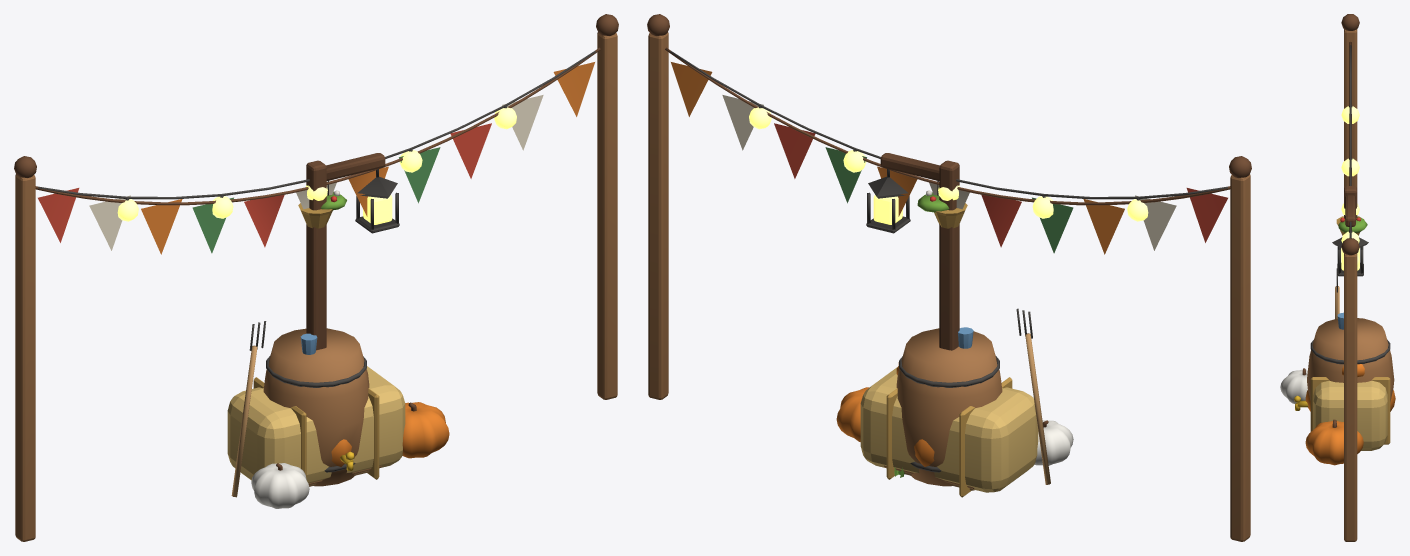
The model's file is fete.glb.
3 renders of one model, left to right at view 1: azimuth 30°, elevation 25°; view 2: azimuth 150°, elevation 25°; view 3: azimuth 270°, elevation 25°, orthographic. The views are drawn at different scales.
Visible parts, largest first — view 1: guirlande:bois, botte-de-foin:paille, tonneau:bois, lanterne:bois-sombre, guirlande:toile-rouge, guirlande:toile-orange, guirlande:bois-sombre, citrouilles:citrouille, citrouilles:peinture-blanche, guirlande:toile-creme, guirlande-lumineuse:lumiere, guirlande:toile-verte (+5 smaller); view 2: guirlande:bois, botte-de-foin:paille, tonneau:bois, lanterne:bois-sombre, guirlande:toile-rouge, guirlande:toile-orange, guirlande:bois-sombre, guirlande:toile-creme, guirlande-lumineuse:lumiere, guirlande:toile-verte, guirlande-lumineuse:fer, citrouilles:citrouille (+5 smaller); view 3: guirlande:bois, tonneau:bois, botte-de-foin:paille, citrouilles:citrouille, guirlande:bois-sombre, guirlande-lumineuse:lumiere, botte-de-foin:paille-sombre, citrouilles:peinture-blanche, lanterne:bois-sombre, guirlande-lumineuse:fer, lanterne:fer, tonneau:fer (+1 smaller).
Boxes of the visible parts, x1,y1,x2,y2 form: guirlande:bois: [15, 32, 617, 541]; botte-de-foin:paille: [227, 366, 405, 484]; tonneau:bois: [263, 328, 369, 486]; lanterne:bois-sombre: [306, 153, 385, 350]; guirlande:toile-rouge: [38, 123, 491, 247]; guirlande:toile-orange: [141, 62, 594, 254]; guirlande:bois-sombre: [14, 14, 618, 205]; citrouilles:citrouille: [331, 402, 449, 466]; citrouilles:peinture-blanche: [251, 463, 309, 508]; guirlande:toile-creme: [89, 95, 543, 250]; guirlande-lumineuse:lumiere: [117, 107, 516, 221]; guirlande:toile-verte: [192, 147, 440, 253]; guirlande:bois: [648, 32, 1250, 541]; botte-de-foin:paille: [860, 367, 1038, 492]; tonneau:bois: [896, 328, 1002, 486]; lanterne:bois-sombre: [880, 153, 959, 350]; guirlande:toile-rouge: [774, 123, 1227, 247]; guirlande:toile-orange: [671, 62, 1124, 254]; guirlande:bois-sombre: [647, 14, 1251, 205]; guirlande:toile-creme: [722, 95, 1176, 250]; guirlande-lumineuse:lumiere: [749, 107, 1148, 221]; guirlande:toile-verte: [825, 147, 1073, 253]; guirlande-lumineuse:fer: [670, 51, 1227, 200]; citrouilles:citrouille: [836, 387, 934, 466]; guirlande:bois: [1344, 29, 1357, 541]; tonneau:bois: [1307, 318, 1394, 401]; botte-de-foin:paille: [1313, 380, 1387, 450]; citrouilles:citrouille: [1305, 390, 1395, 465]; guirlande:bois-sombre: [1341, 14, 1359, 255]; guirlande-lumineuse:lumiere: [1341, 106, 1359, 266]; botte-de-foin:paille-sombre: [1310, 377, 1390, 444]; citrouilles:peinture-blanche: [1280, 369, 1307, 403]; lanterne:bois-sombre: [1344, 186, 1357, 226]; guirlande-lumineuse:fer: [1349, 45, 1352, 238]; lanterne:fer: [1332, 237, 1368, 276]; tonneau:fer: [1310, 339, 1390, 364].
Bounding box in the file's own units: 4.13 × 2.53 × 0.87.
